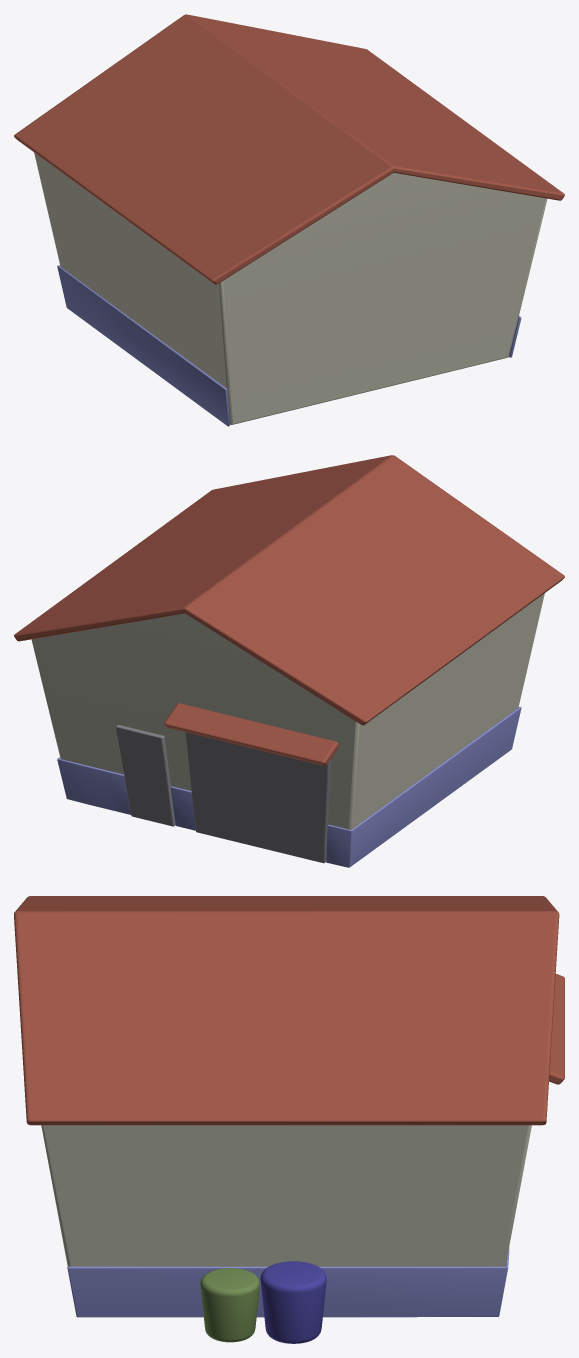
File: SM_WareHouse_Factory(1).fbx
3 renders of one model, top to bottom at view 1: azimuth 30°, elevation 25°; view 2: azimuth 150°, elevation 25°; view 3: azimuth 270°, elevation 25°, orthographic. The views are drawn at different scales.
Visible parts, largest first — view 1: Cube.092, Cube.065, Cube.094; view 2: Cube.092, Cube.065, Cube.093, Cube.094, Cube.096; view 3: Cube.092, Cube.065, Cube.094, Cylinder.011, Cylinder.014, Cube.096.
Part boxes in pixels (x1,y1,x2,y2): Cube.092: (14,14,564,284); Cube.065: (34,152,547,424); Cube.094: (57,265,521,426); Cube.092: (14,455,564,725); Cube.065: (31,593,544,829); Cube.093: (116,724,330,863); Cube.094: (57,707,521,867); Cube.096: (164,703,338,765); Cube.092: (14,896,559,1125); Cube.065: (41,1125,531,1266); Cube.094: (67,1247,509,1317); Cylinder.011: (260,1261,326,1343); Cylinder.014: (200,1268,259,1342); Cube.096: (549,974,564,1084).
Size of the model in its own units: 392 by 247 by 391.
